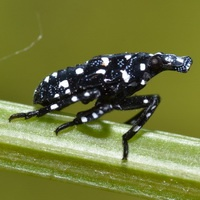insect: (9, 52, 191, 159)
